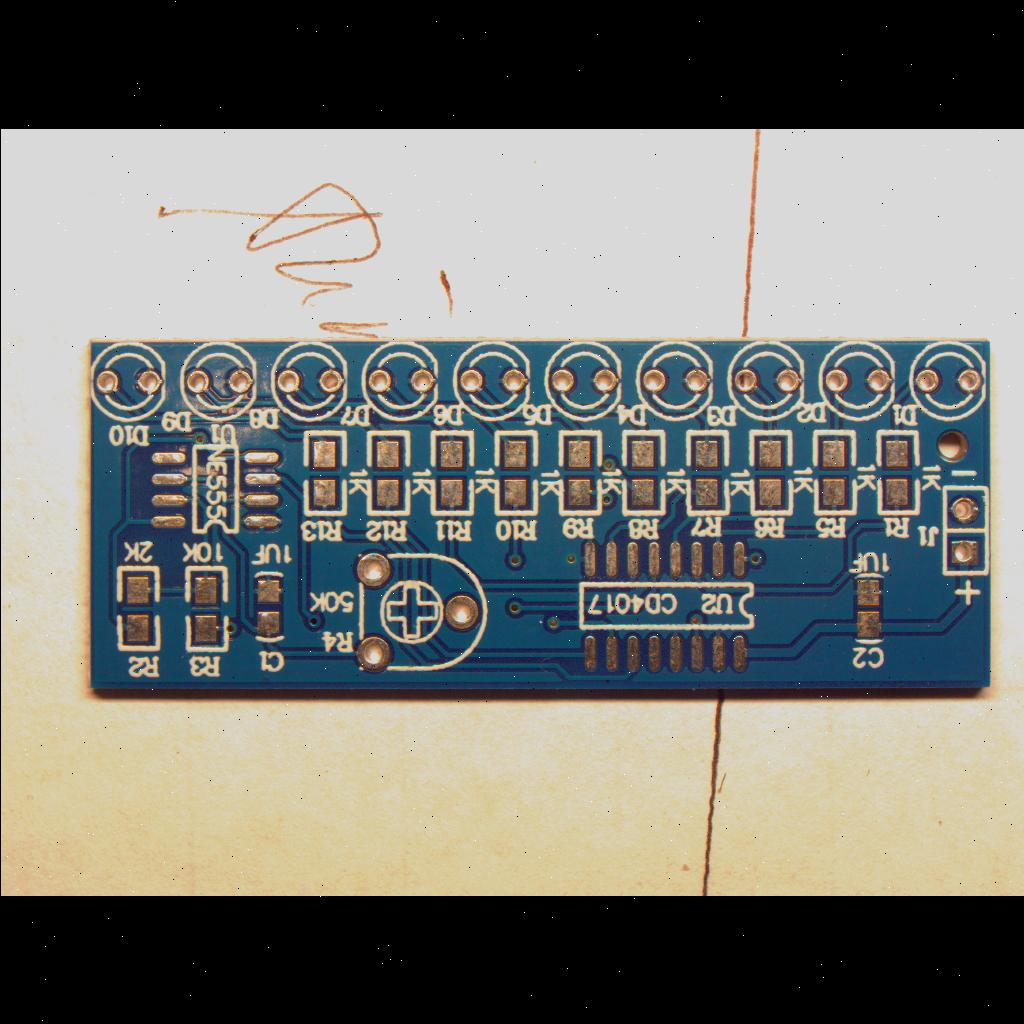NG: (570, 526, 760, 682), (140, 437, 290, 543), (108, 561, 164, 655), (177, 561, 233, 655), (742, 426, 798, 520), (552, 426, 608, 520), (614, 427, 670, 519), (360, 427, 416, 519), (680, 426, 734, 520), (487, 428, 541, 520), (808, 428, 862, 518), (298, 428, 350, 520), (426, 428, 478, 520), (842, 562, 892, 650), (244, 565, 290, 647), (875, 432, 919, 514)
